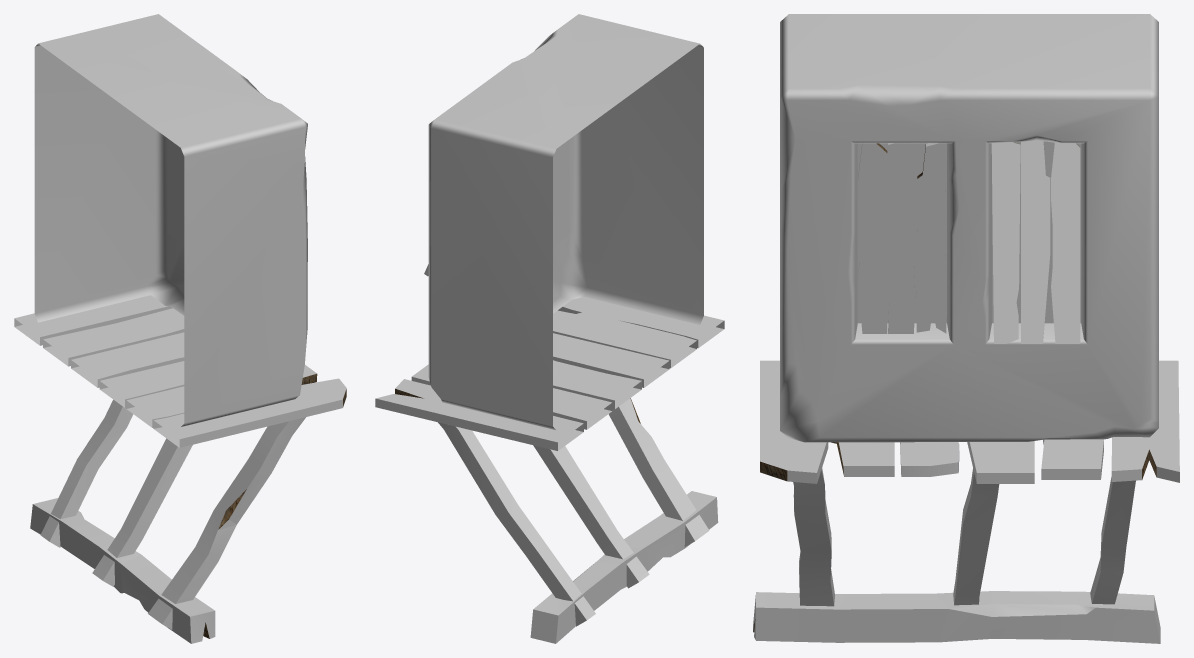
Rendered from lower_city_balcony_02.fbx.
3 views of the same model, side by side, from view 1: azimuth 30°, elevation 25°; view 2: azimuth 150°, elevation 25°; view 3: azimuth 270°, elevation 25° (orthographic). The views are drawn at different scales.
Visible parts, largest first — view 1: balcony; view 2: balcony; view 3: balcony, sash_01, sash_02.
Part boxes in pixels (box(x1,y1,x2,y2)): balcony: box(14, 14, 346, 643); balcony: box(375, 14, 724, 643); balcony: box(753, 14, 1179, 643); sash_01: box(991, 140, 1080, 343); sash_02: box(858, 143, 946, 333).
Bounding box in the file's own units: 1.12 × 2.85 × 1.78.
